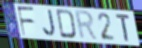2: (97, 12, 117, 42)
D: (55, 8, 78, 40)
F: (16, 5, 35, 37)
J: (42, 9, 57, 38)
R: (74, 9, 100, 42)
T: (115, 13, 131, 43)
